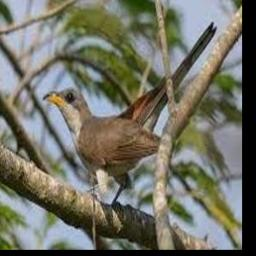Cuckoo: (42, 22, 216, 208)
